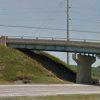Bridge: (11, 25, 94, 62)
